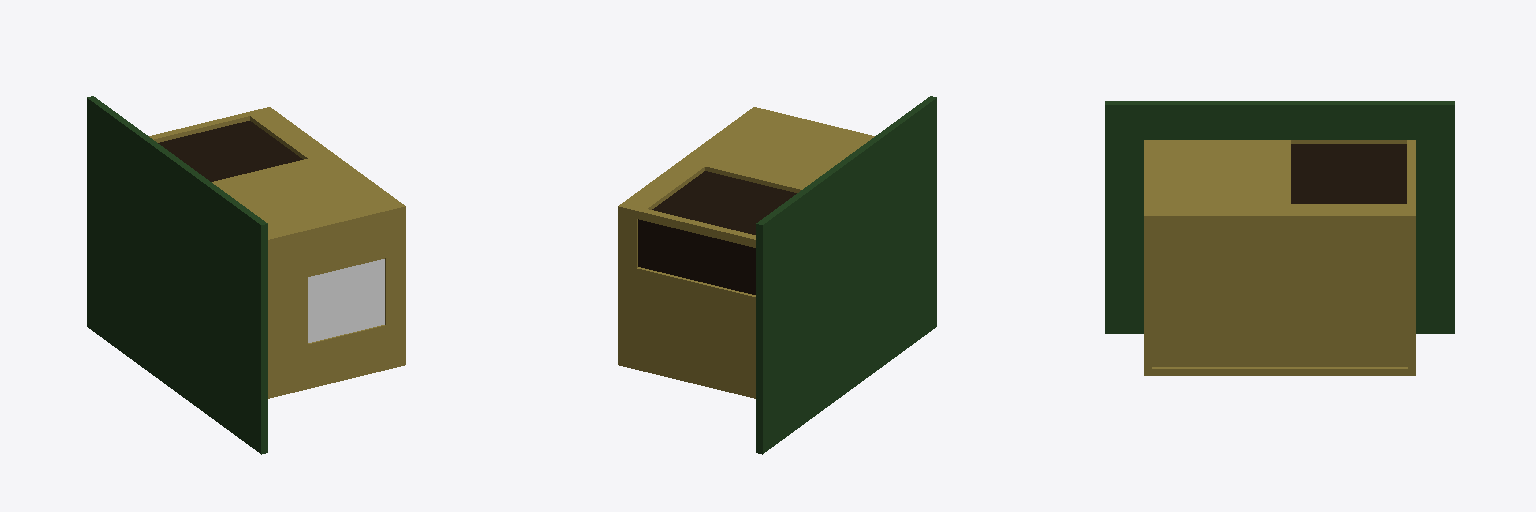
The model's file is Room.obj.
The picture shows the model from 3 angles: view 1: azimuth 30°, elevation 25°; view 2: azimuth 150°, elevation 25°; view 3: azimuth 270°, elevation 25°; orthographic projection.
Parts seen in each view (by area): view 1: poly; view 2: poly; view 3: poly.
Boxes of the visible parts, box(x1,y1,x2,y2) form: poly: box(87, 96, 405, 454); poly: box(618, 96, 936, 454); poly: box(1105, 101, 1454, 375).
Bounding box in the file's own units: 22.46 × 29.99 × 41.45.